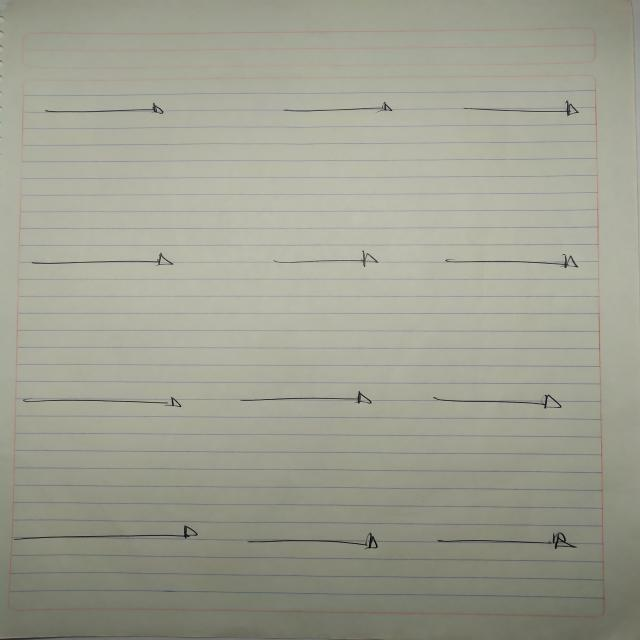arrow_line_right: (16, 386, 200, 418), (4, 520, 214, 546), (234, 525, 390, 557), (21, 246, 188, 275), (423, 527, 584, 556), (436, 246, 590, 276), (417, 387, 568, 413), (449, 96, 589, 120), (258, 245, 388, 269), (234, 389, 385, 409), (276, 100, 408, 122), (36, 99, 176, 119)
